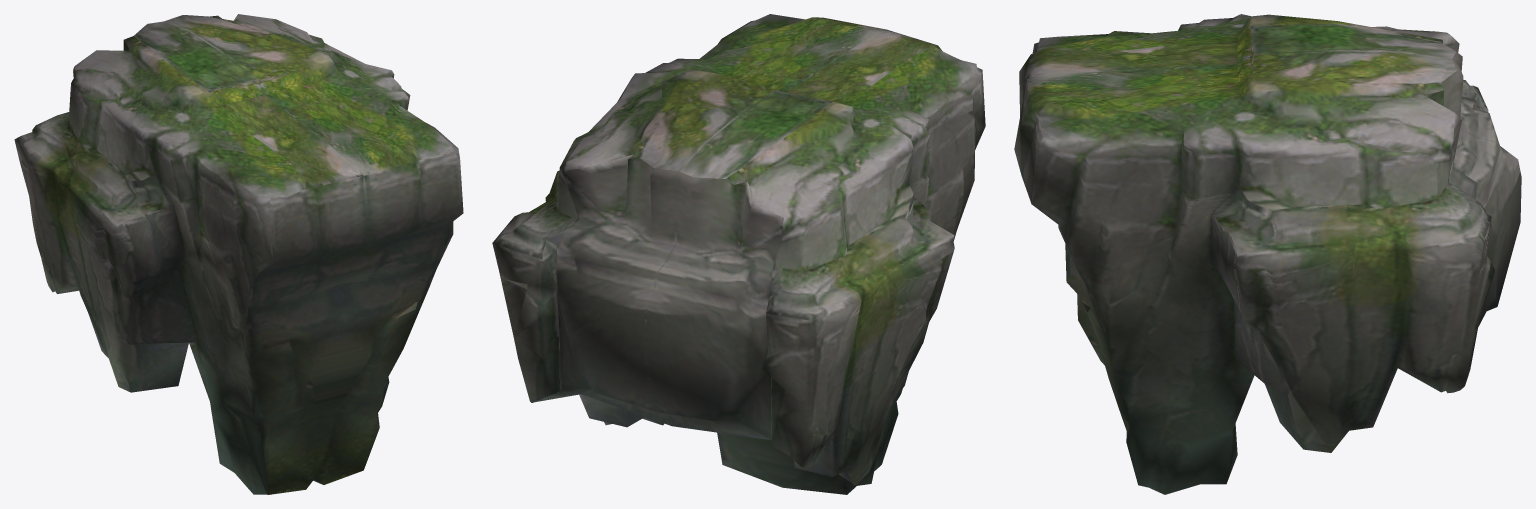
Rendered from wlf_shanshi02_w.FBX.
3 views of the same model, side by side, from view 1: azimuth 30°, elevation 25°; view 2: azimuth 150°, elevation 25°; view 3: azimuth 270°, elevation 25° (orthographic). The views are drawn at different scales.
Parts seen in each view (by area): view 1: wlf_shanshi02_w; view 2: wlf_shanshi02_w; view 3: wlf_shanshi02_w.
Boxes of the visible parts, x1,y1,x2,y2 form: wlf_shanshi02_w: [14, 14, 463, 494]; wlf_shanshi02_w: [492, 14, 985, 494]; wlf_shanshi02_w: [1014, 14, 1521, 494].
Size of the model in its own units: 305 by 333 by 368.
